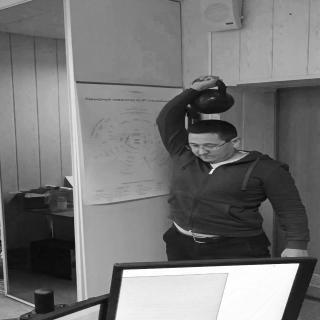kettlebell: (187, 79, 237, 116)
